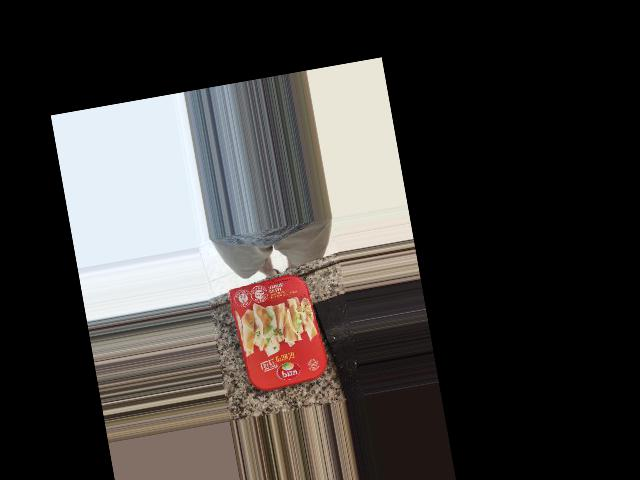cheese: (233, 246, 338, 370)
